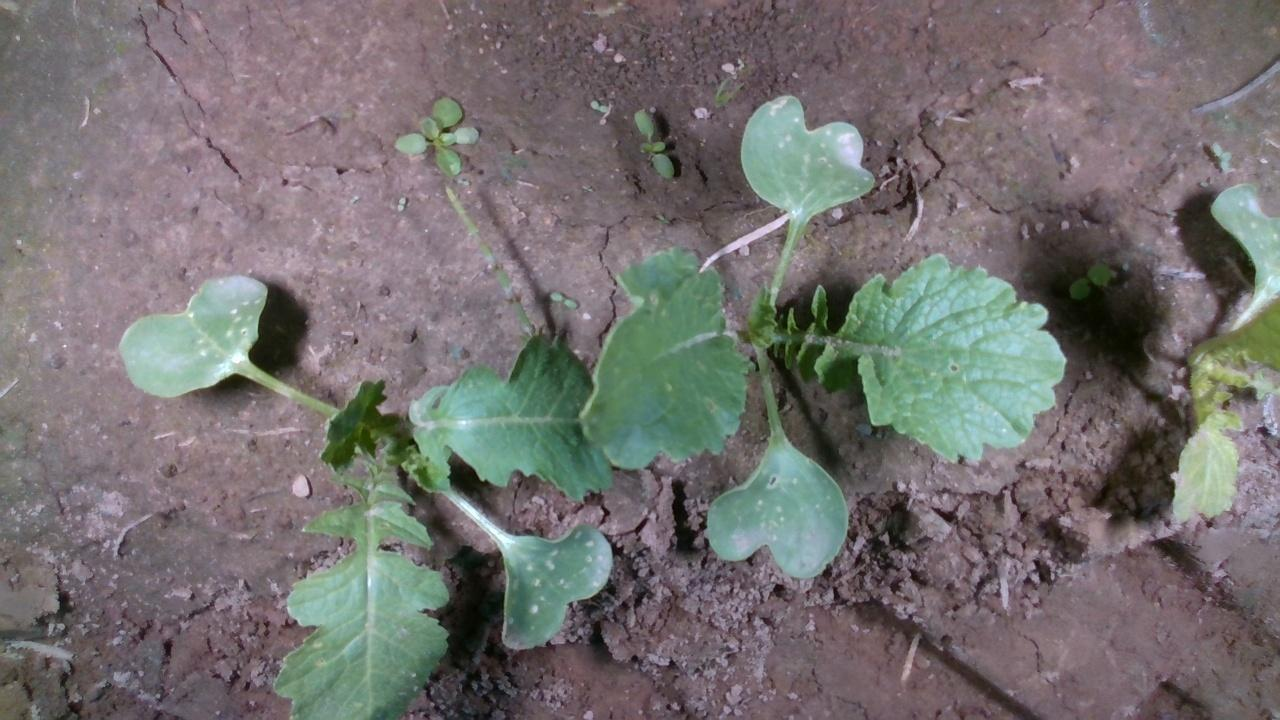weed: (394, 93, 480, 176), (632, 107, 674, 182), (1066, 260, 1111, 302), (589, 98, 611, 114)
